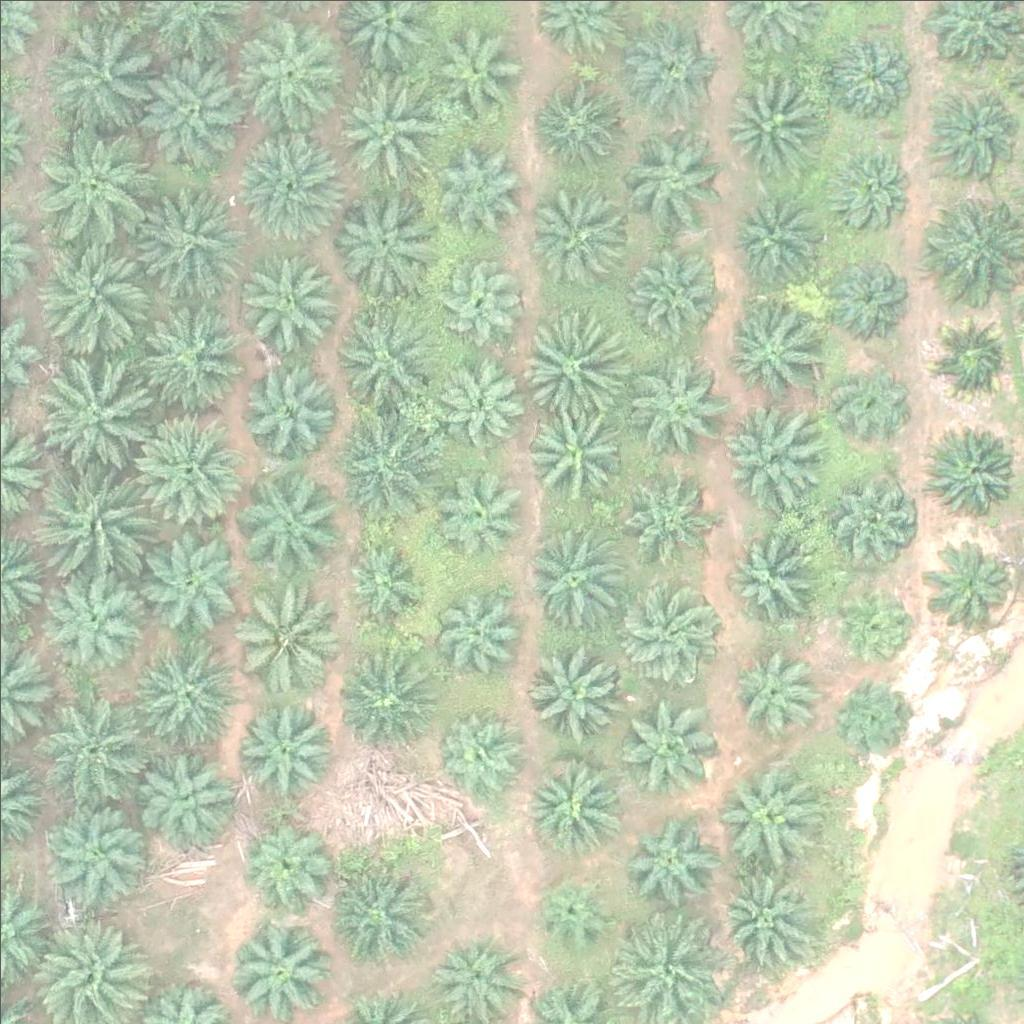Kelapa_Sawit: (131, 187, 244, 301), (41, 462, 154, 575), (32, 233, 145, 346), (138, 52, 251, 165), (131, 298, 244, 411), (234, 461, 347, 574), (232, 126, 345, 239), (326, 64, 439, 177), (328, 306, 441, 419), (327, 406, 440, 519), (133, 640, 246, 753), (38, 127, 150, 241), (518, 306, 630, 420), (36, 350, 148, 463), (47, 18, 159, 131), (133, 414, 245, 527), (35, 690, 147, 803), (41, 800, 153, 913), (225, 577, 337, 690), (242, 355, 342, 456), (234, 251, 334, 352), (238, 14, 338, 115), (331, 187, 431, 288), (519, 395, 619, 496), (627, 347, 727, 448), (625, 237, 725, 338), (720, 301, 820, 402), (43, 566, 143, 667), (136, 745, 236, 846), (143, 531, 243, 632), (231, 697, 331, 798), (228, 922, 328, 1023), (332, 862, 432, 963), (619, 581, 719, 682), (727, 640, 827, 741), (531, 185, 631, 285), (622, 128, 722, 228), (622, 4, 722, 104), (721, 521, 821, 621), (718, 405, 818, 505), (717, 68, 817, 168), (819, 23, 919, 123), (337, 644, 437, 744), (523, 755, 623, 855), (523, 642, 623, 742), (524, 527, 624, 627), (615, 697, 715, 797), (711, 867, 811, 967), (720, 761, 820, 861), (440, 464, 528, 552), (436, 352, 524, 440), (431, 26, 519, 114), (538, 81, 626, 169), (617, 463, 705, 551), (730, 197, 818, 285), (829, 576, 917, 664), (825, 358, 913, 446), (824, 246, 912, 334), (824, 141, 912, 229), (340, 543, 428, 631), (430, 933, 518, 1021), (435, 255, 522, 343), (434, 136, 521, 224), (828, 475, 915, 563), (926, 534, 1013, 622), (930, 429, 1017, 517), (930, 311, 1017, 399), (933, 90, 1020, 178), (241, 823, 328, 911), (434, 589, 521, 677), (437, 712, 524, 800), (627, 812, 714, 900), (828, 675, 915, 763), (535, 875, 610, 951)
